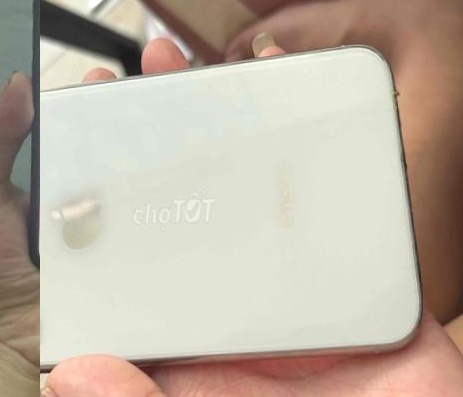scratch: (40, 80, 105, 109)
